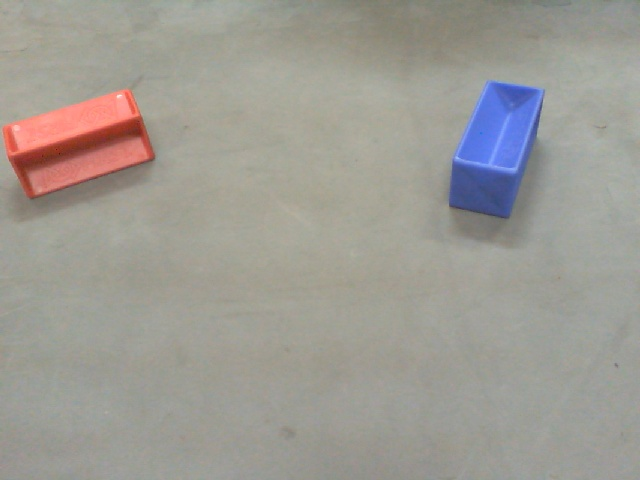BlueSample: (448, 77, 549, 225)
RedSample: (1, 85, 155, 208)
